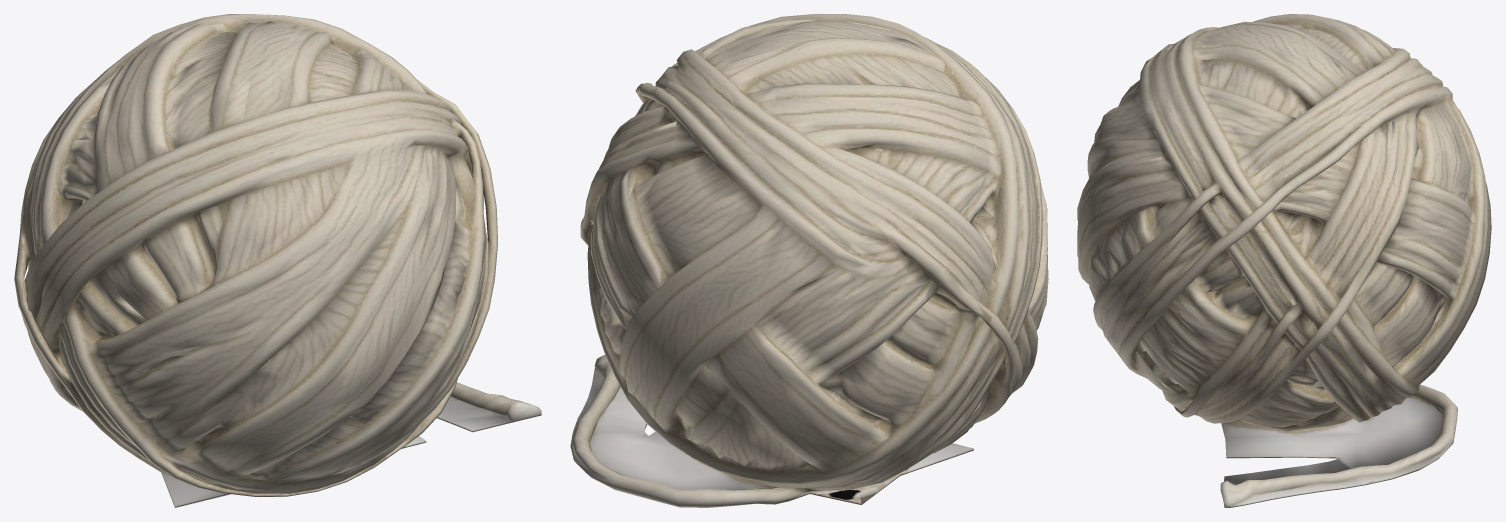
Rendered from yarn.glb.
3 views of the same model, side by side, from view 1: azimuth 30°, elevation 25°; view 2: azimuth 150°, elevation 25°; view 3: azimuth 270°, elevation 25° (orthographic). The views are drawn at different scales.
Visible parts, largest first — view 1: tripo_node_86d113ec-288f-4cfc-826f-2ee59; view 2: tripo_node_86d113ec-288f-4cfc-826f-2ee59; view 3: tripo_node_86d113ec-288f-4cfc-826f-2ee59.
Part boxes in pixels (x1,y1,x2,y2): tripo_node_86d113ec-288f-4cfc-826f-2ee59: [14, 14, 541, 507]; tripo_node_86d113ec-288f-4cfc-826f-2ee59: [570, 14, 1048, 507]; tripo_node_86d113ec-288f-4cfc-826f-2ee59: [1077, 14, 1491, 507].
Size of the model in its own units: 0.998 by 0.8496 by 0.8691.
1 material, 1 textured.
